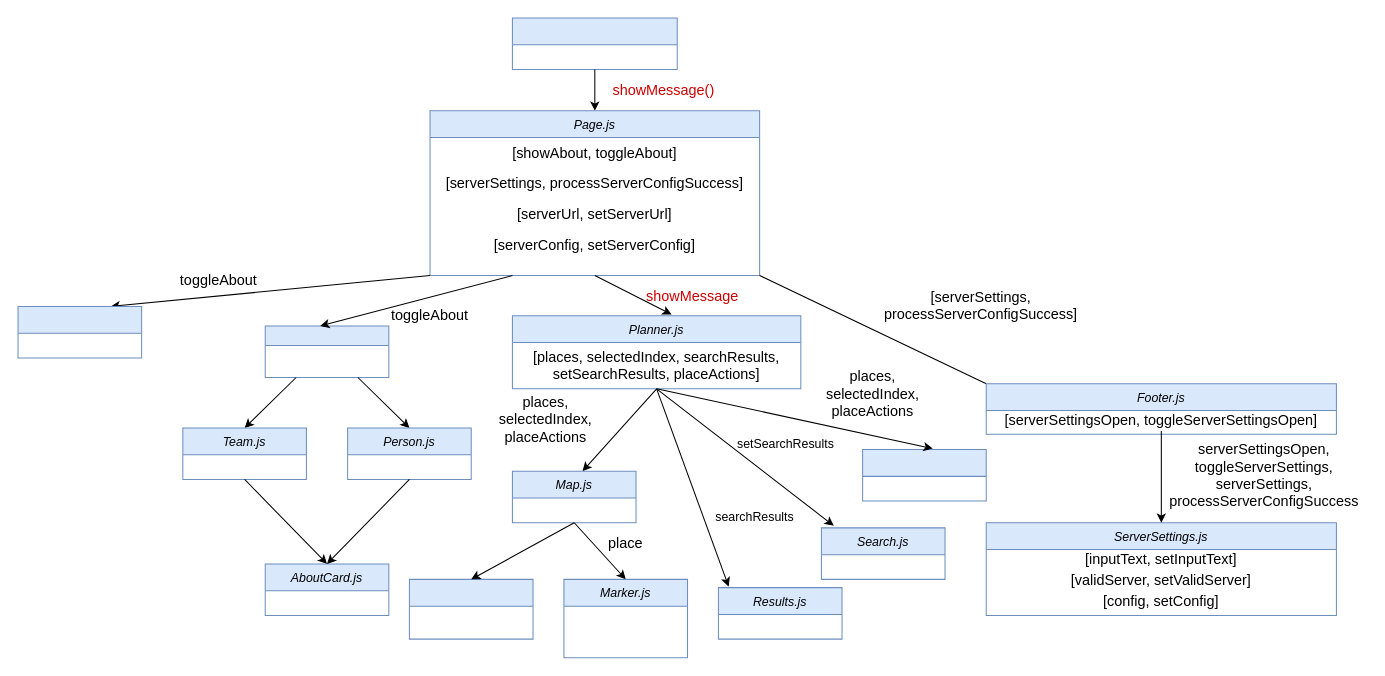
Some shapes in this 1385 by 676 pixel diagram are drawn without their labels. The shapes that lost their labels are listed below. From the top down, each one's centre as x and y in pixels, then its label:
At [594,43]: "App.js".
At [79,331]: "Header.js".
At [326,351]: "About.js".
At [924,475]: "Itinerary.js".
At [470,608]: "LocateMe.js".
